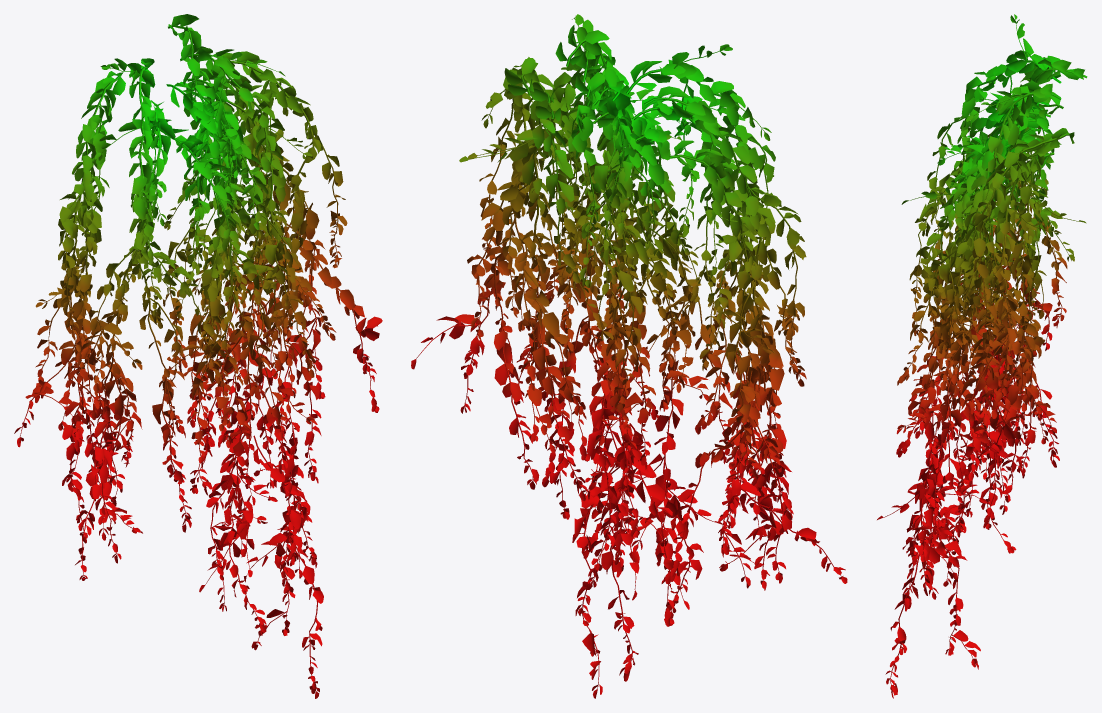
Rendered from Var1_LOD2.fbx.
3 views of the same model, side by side, from view 1: azimuth 30°, elevation 25°; view 2: azimuth 150°, elevation 25°; view 3: azimuth 270°, elevation 25° (orthographic). The views are drawn at different scales.
Visible parts, largest first — view 1: _u9tv_Var1_LOD2; view 2: _u9tv_Var1_LOD2; view 3: _u9tv_Var1_LOD2.
Boxes of the visible parts, left/top/right/bottom form: _u9tv_Var1_LOD2: left=14, top=14, right=382, bottom=698; _u9tv_Var1_LOD2: left=411, top=14, right=847, bottom=698; _u9tv_Var1_LOD2: left=877, top=14, right=1087, bottom=698.
Bounding box in the file's own units: 144 × 255 × 78.8.
